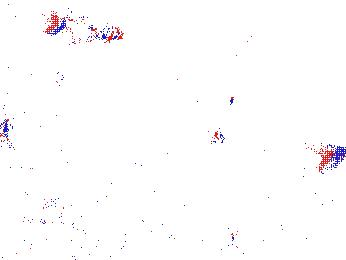X-ray fish: (42, 204, 63, 236)
redtail glassfish: (45, 7, 126, 46)
